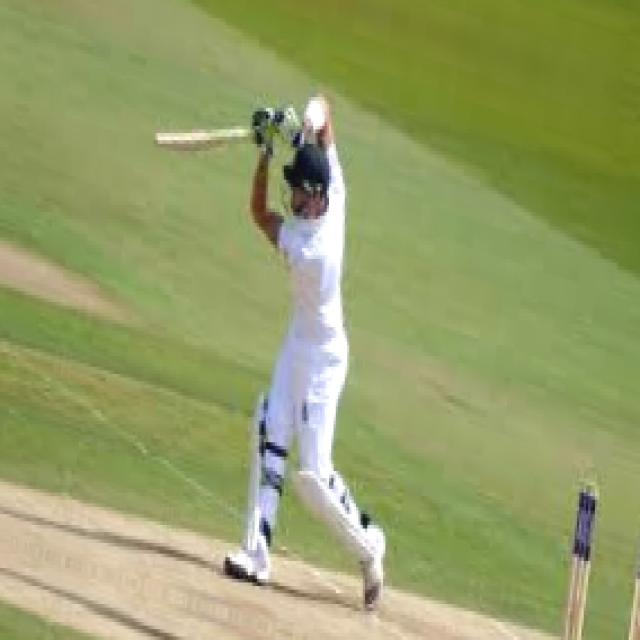toe: (150, 126, 192, 158)
